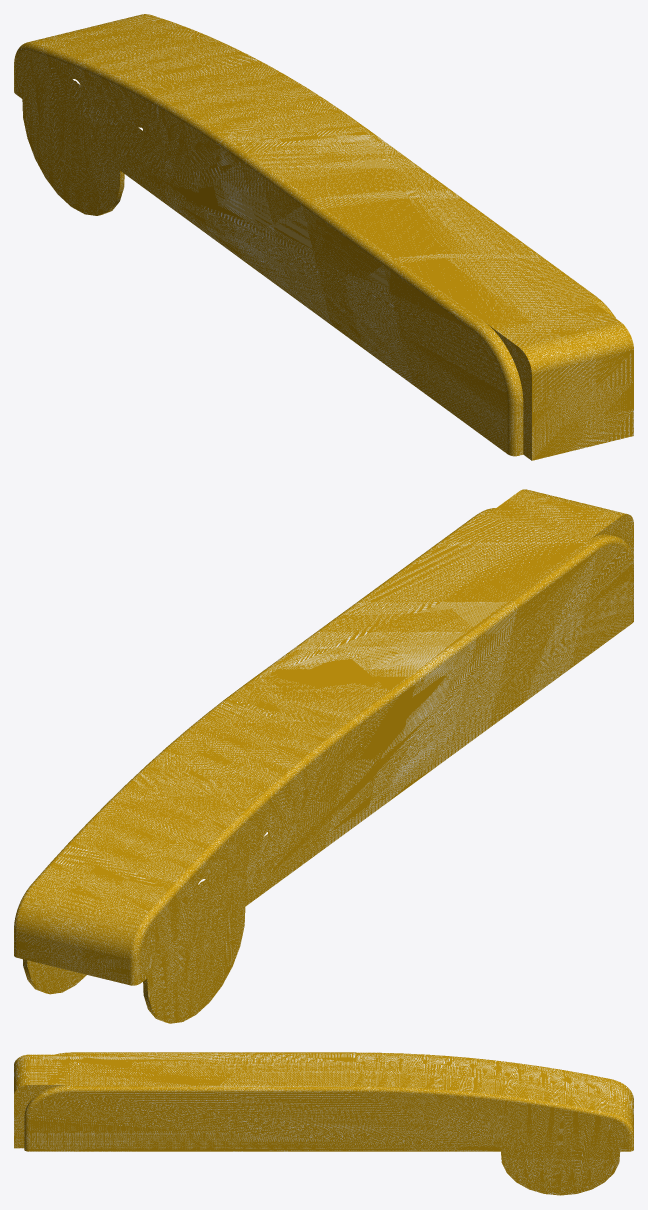
The model's file is original-34.obj.
3 renders of one model, top to bottom at view 1: azimuth 30°, elevation 25°; view 2: azimuth 150°, elevation 25°; view 3: azimuth 270°, elevation 25°, orthographic. The views are drawn at different scales.
Visible parts, largest first — view 1: mesh12/mesh12-geometry/material_3/component_0#mesh12-geometry; view 2: mesh12/mesh12-geometry/material_3/component_0#mesh12-geometry; view 3: mesh12/mesh12-geometry/material_3/component_0#mesh12-geometry.
Boxes of the visible parts, x1,y1,x2,y2 form: mesh12/mesh12-geometry/material_3/component_0#mesh12-geometry: [14, 14, 633, 460]; mesh12/mesh12-geometry/material_3/component_0#mesh12-geometry: [14, 489, 633, 1023]; mesh12/mesh12-geometry/material_3/component_0#mesh12-geometry: [14, 1052, 633, 1195].
Bounding box in the file's own units: 0.2776 × 0.3742 × 1.96.
